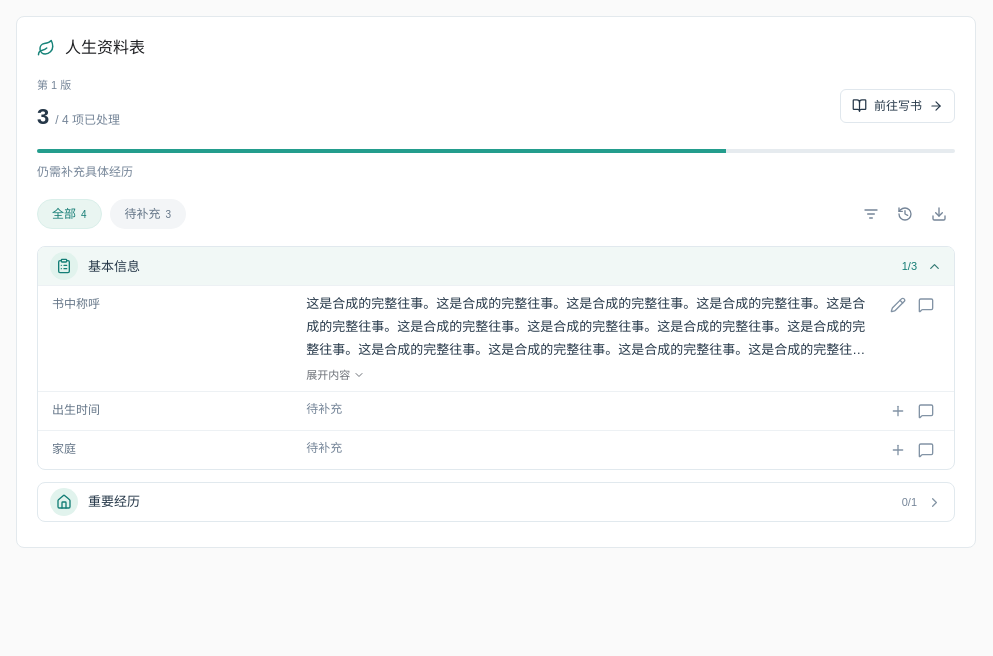
Test: long content expands and collapses without losing its source text
This screenshot has width=993, height=656.
Click the button "展开内容".
click(336, 375)  # box [306, 364, 365, 386]
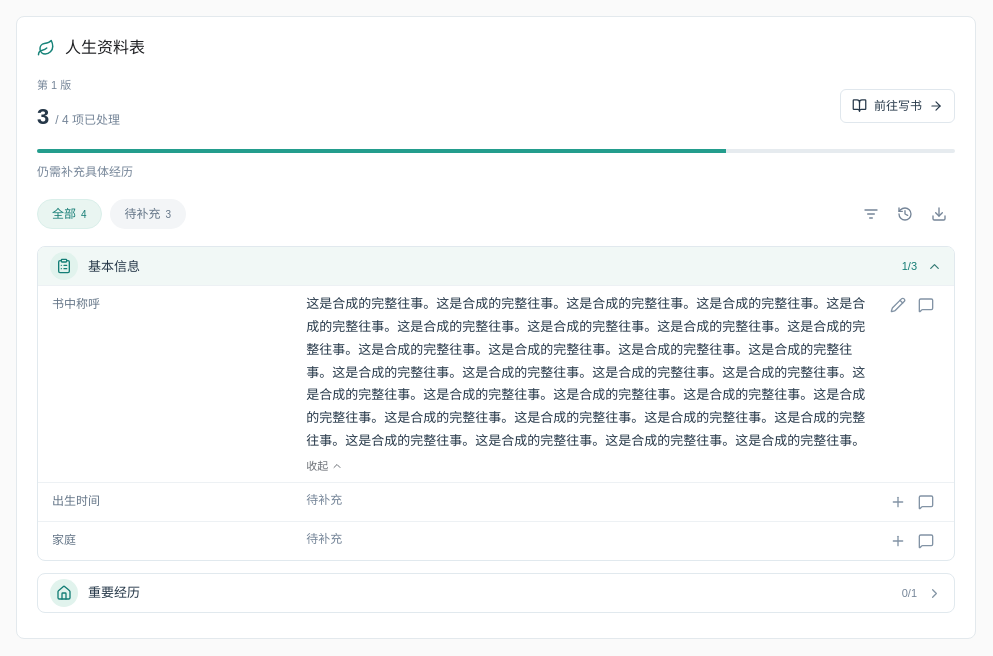
Expected: the button "收起" is expanded
Click the button "收起".
click(325, 466)  # box [306, 455, 343, 477]
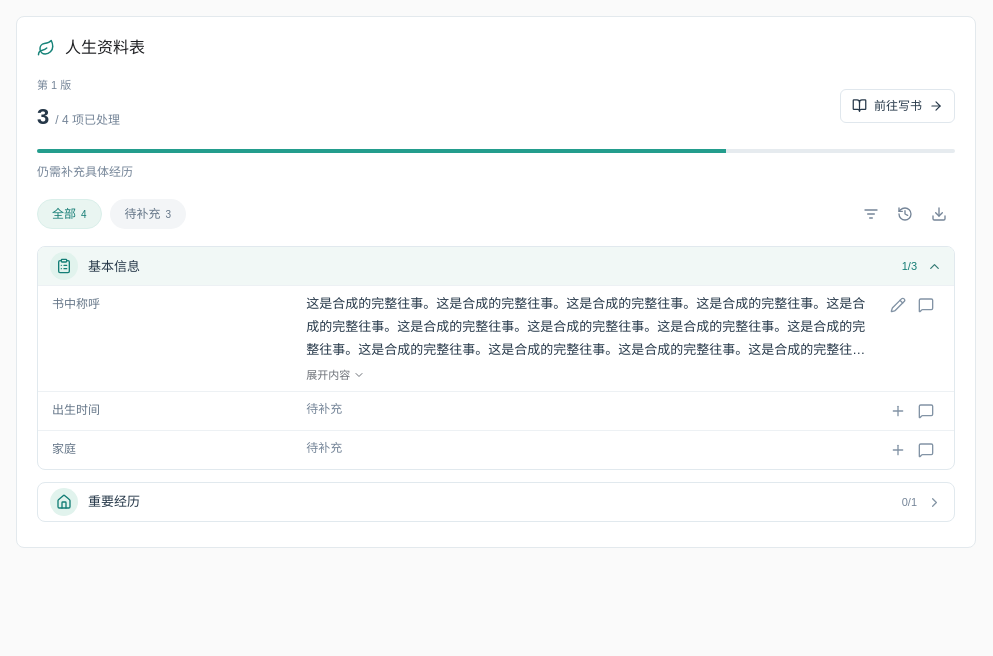
Expected: the button "展开内容" is collapsed, [306, 364, 365, 386]
